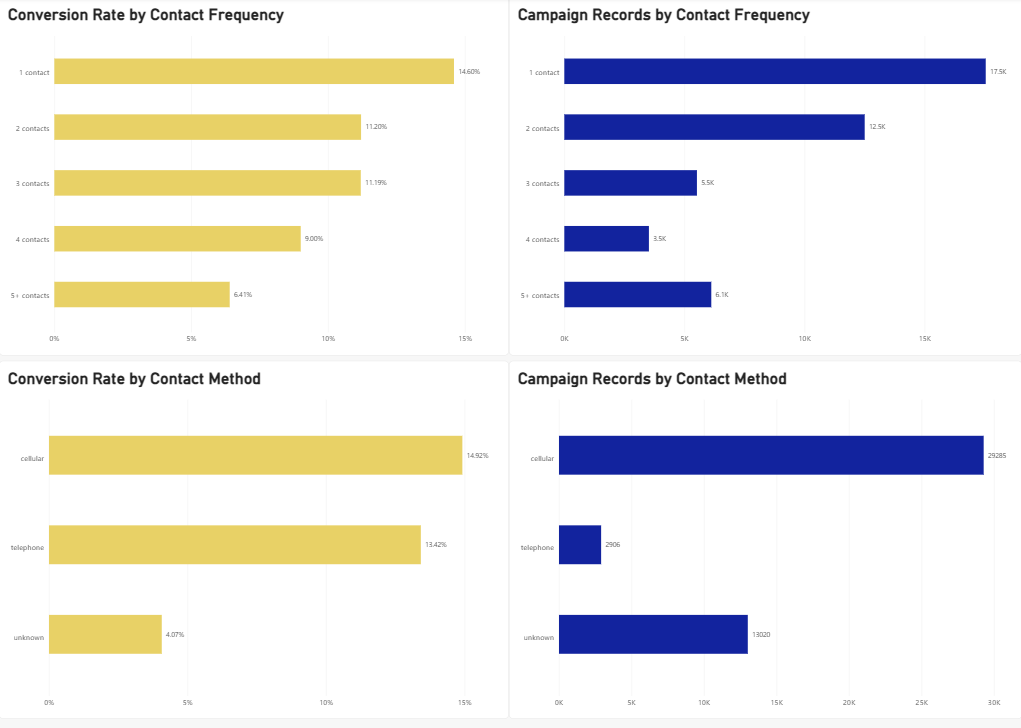

This screenshot's page, from the dashboard's own definition file:
{"tool":"powerbi","page":{"name":"Campaign Operations","canvas":[1920,1400],"ordinal":1},"visuals":[{"type":"clusteredBarChart","title":"Conversion Rate by Contact Frequency","fields":{"Category":["crm_priority_segments_v2.Contact Frequency Group"],"Y":["crm_priority_segments_v2.Conversion Rate"]},"box":[0,0,957.1,672.5],"z":0},{"type":"clusteredBarChart","title":"Campaign Records by Contact Frequency","fields":{"Category":["crm_priority_segments_v2.Contact Frequency Group"],"Y":["crm_priority_segments_v2.Total Records"]},"box":[957.1,0,962.9,672.5],"z":1},{"type":"clusteredBarChart","title":"Conversion Rate by Contact Method","fields":{"Category":["crm_priority_segments_v2.contact"],"Y":["crm_priority_segments_v2.Conversion Rate"]},"box":[0,682,957,672],"z":2},{"type":"clusteredBarChart","title":"Campaign Records by Contact Method","fields":{"Category":["crm_priority_segments_v2.contact"],"Y":["crm_priority_segments_v2.Total Records"]},"box":[957,682,963,672],"z":3}]}

Visuals, with their boxes in screenshot pixels (x1, y1, x2, y2), scaled from the page's 1920x1400 canvas onto the 1021x728 screenshot:
"Conversion Rate by Contact Frequency" clusteredBarChart: {"left": 0, "top": 0, "right": 509, "bottom": 350}
"Campaign Records by Contact Frequency" clusteredBarChart: {"left": 509, "top": 0, "right": 1020, "bottom": 350}
"Conversion Rate by Contact Method" clusteredBarChart: {"left": 0, "top": 355, "right": 509, "bottom": 704}
"Campaign Records by Contact Method" clusteredBarChart: {"left": 509, "top": 355, "right": 1020, "bottom": 704}
